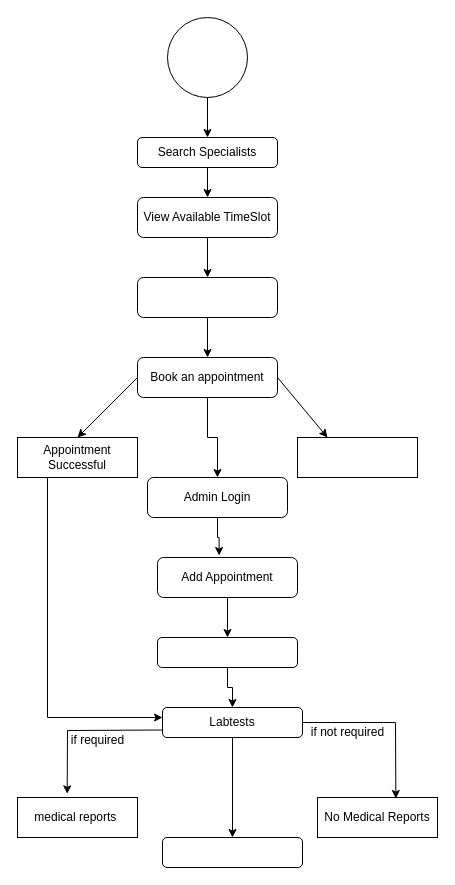
Some shapes in this 455 by 885 pixel diagram are drawn without their labels. The centre of each missing label's shape, as x and y in pixels:
"Appointment Cancelled" belongs at [357,457].
"Call Booked Patients" belongs at [232,852].
"remove appointment" belongs at [227,652].
"Select Time Slot" belongs at [207,297].
"Visit Online Portal" belongs at [207,57].
